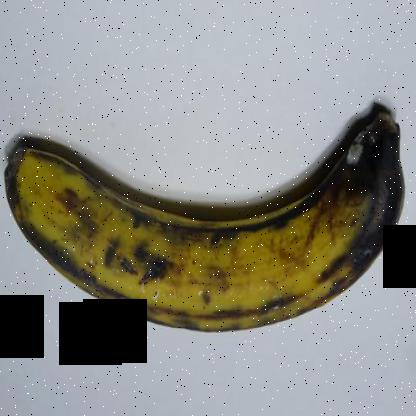overripe: (1, 72, 413, 356)
rotten: (299, 119, 415, 285)
